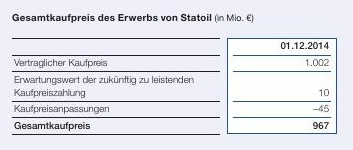table: (0, 0, 353, 150)
